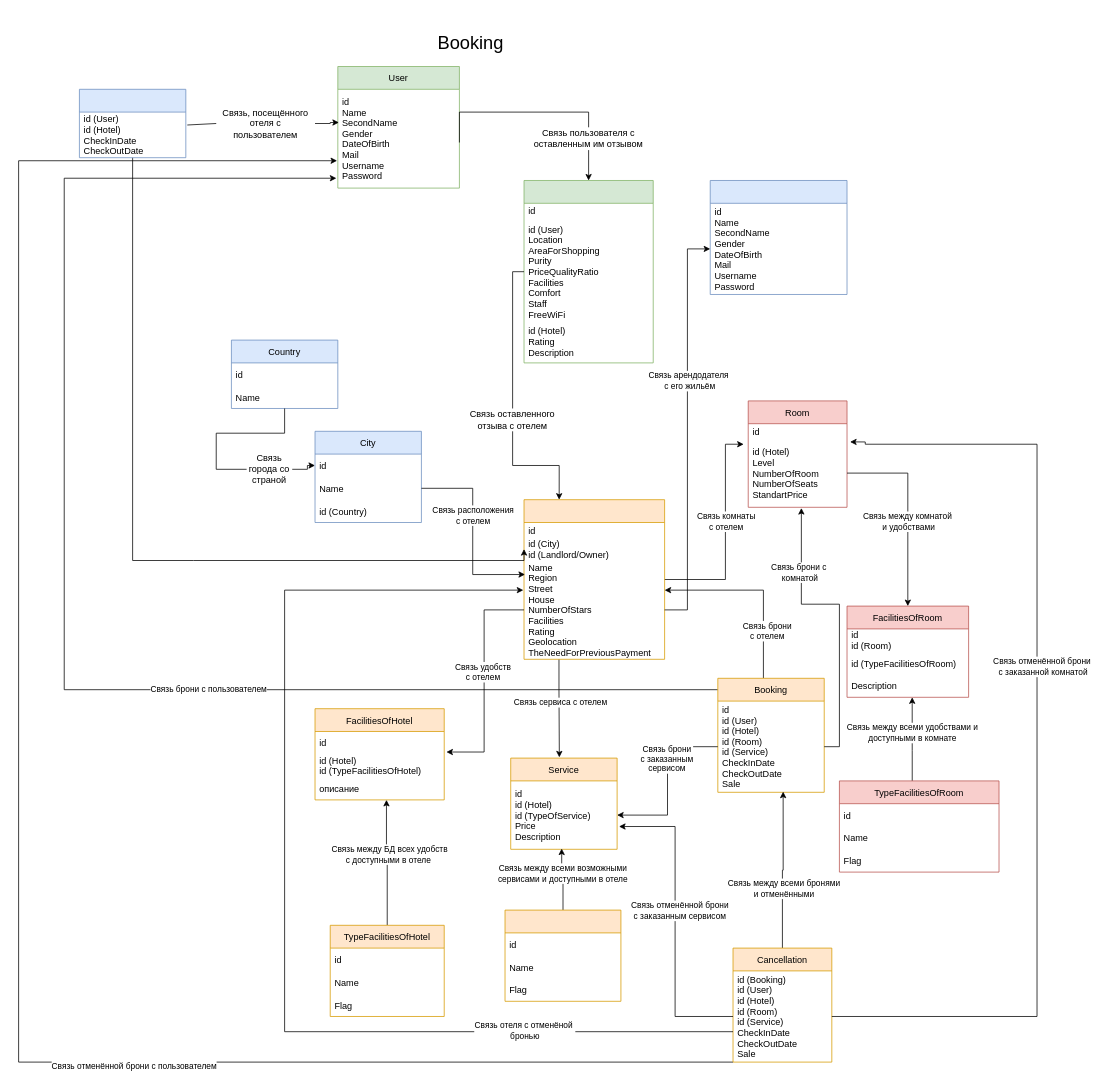
This 1106x1083 diagram has some shape labels left out. The box of each missing label's shape, as (x1, y1, x2, y2) in pixels:
Booking history: (79, 89, 186, 158)
Hotel: (523, 499, 665, 659)
Landlord/Owner: (709, 180, 847, 294)
Review: (523, 180, 653, 363)
TypeOfService: (504, 909, 621, 1001)
